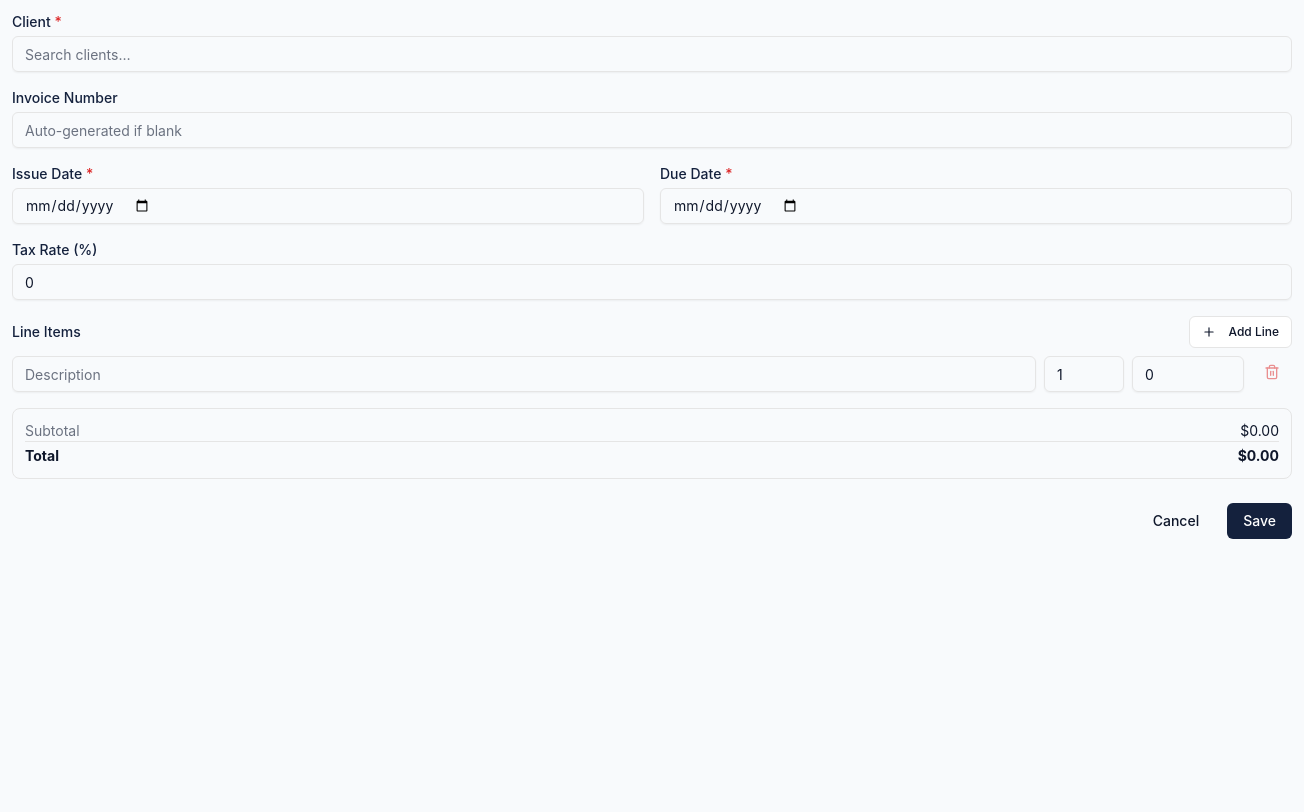
Test: InvoiceForm › shows validation error when submitting without client
Click the button with test id "btn-submit": (1260, 521) [1227,503,1292,539]
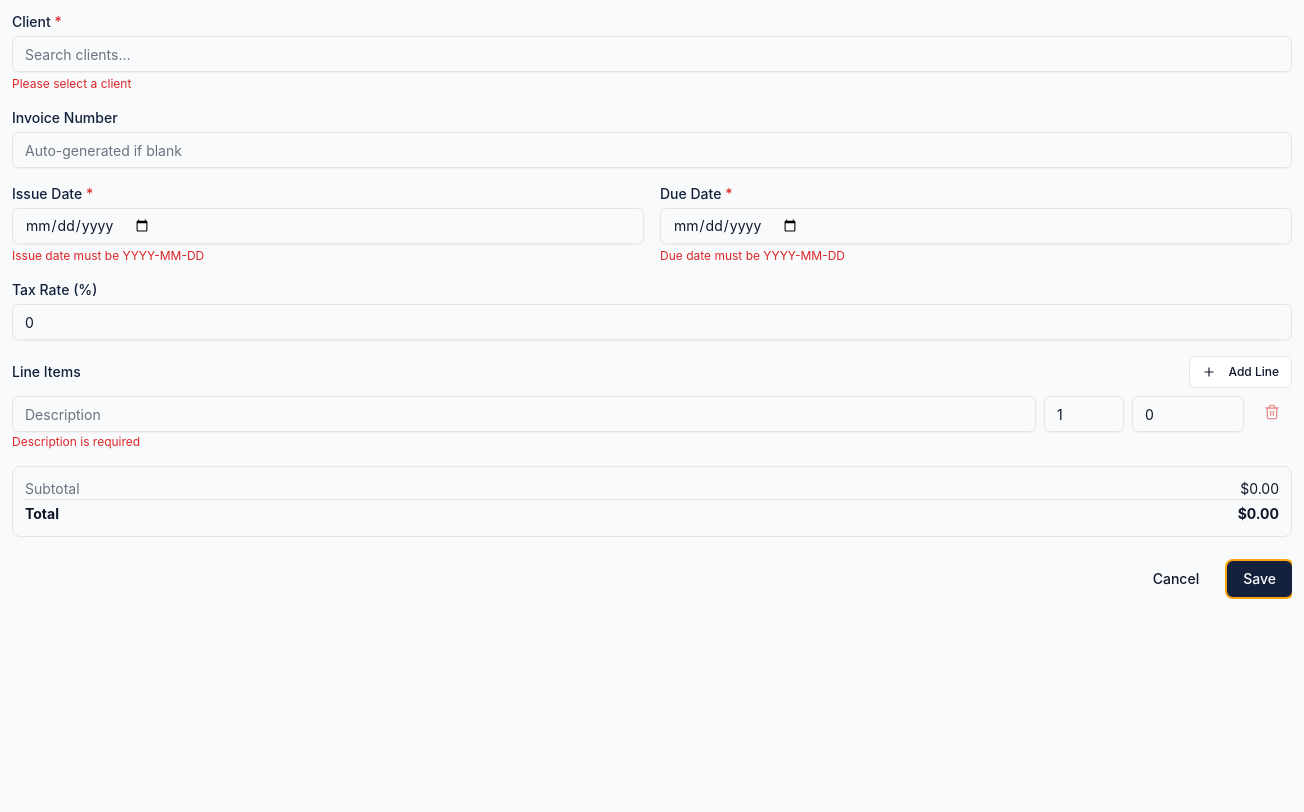
Now the message "Please select a client" is shown, box [12,76,131,91]
